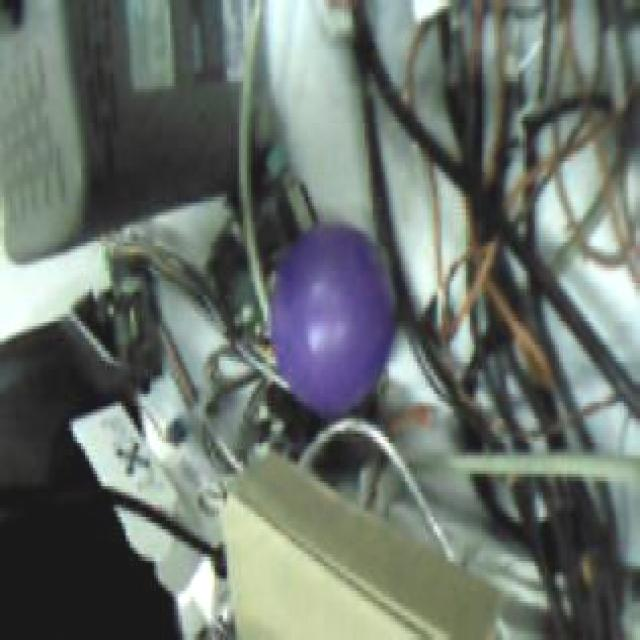BallPurple: (271, 225, 390, 411)
